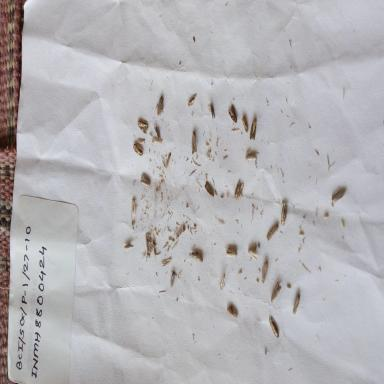pbw: (277, 197, 291, 228), (266, 314, 282, 340), (330, 187, 344, 213), (271, 274, 282, 306), (249, 108, 259, 142), (266, 220, 279, 246), (189, 131, 201, 158), (135, 114, 150, 135), (232, 178, 244, 204), (226, 102, 239, 126), (291, 291, 302, 319), (260, 258, 270, 288), (203, 178, 215, 202), (226, 304, 241, 322), (189, 248, 204, 266), (144, 230, 153, 259), (246, 243, 259, 263), (138, 172, 152, 190), (131, 140, 144, 159), (156, 94, 166, 118), (244, 149, 259, 165), (224, 243, 239, 259), (168, 269, 179, 290), (129, 194, 137, 222), (240, 113, 250, 135), (207, 100, 217, 122), (174, 222, 186, 239), (163, 148, 172, 170), (152, 134, 166, 148), (151, 234, 159, 258), (160, 255, 174, 268), (218, 272, 227, 292), (187, 92, 197, 110), (122, 240, 136, 252)
